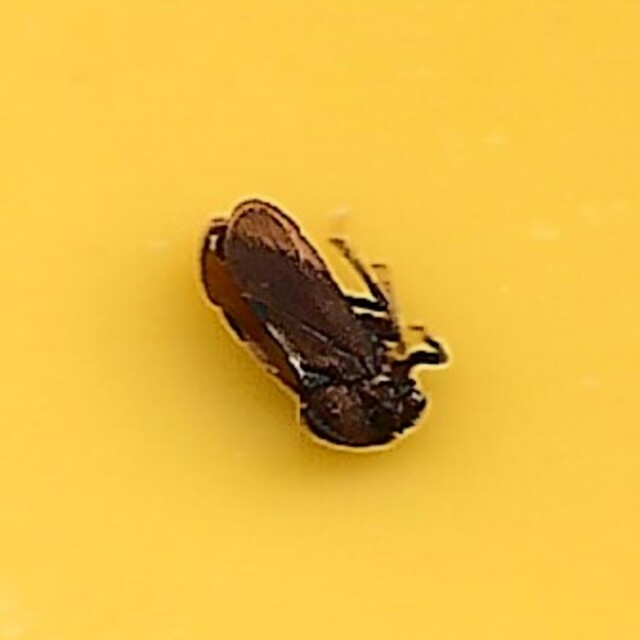Hymenoptera: (190, 188, 450, 452)
